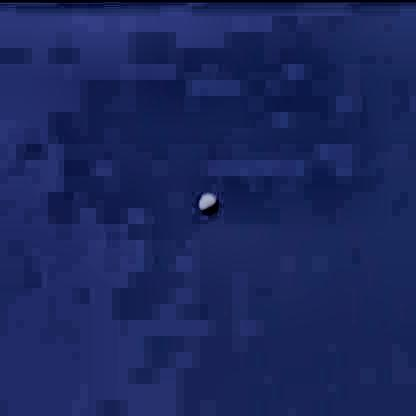golfball: (197, 186, 216, 208)
